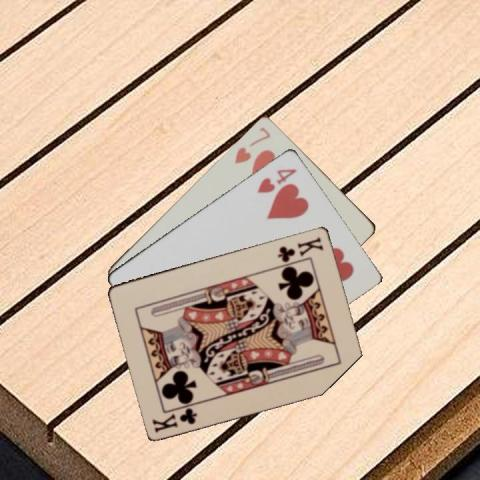4h: (254, 165, 298, 195)
7h: (231, 123, 272, 165)
Kc: (275, 233, 325, 263), (149, 405, 199, 434)
